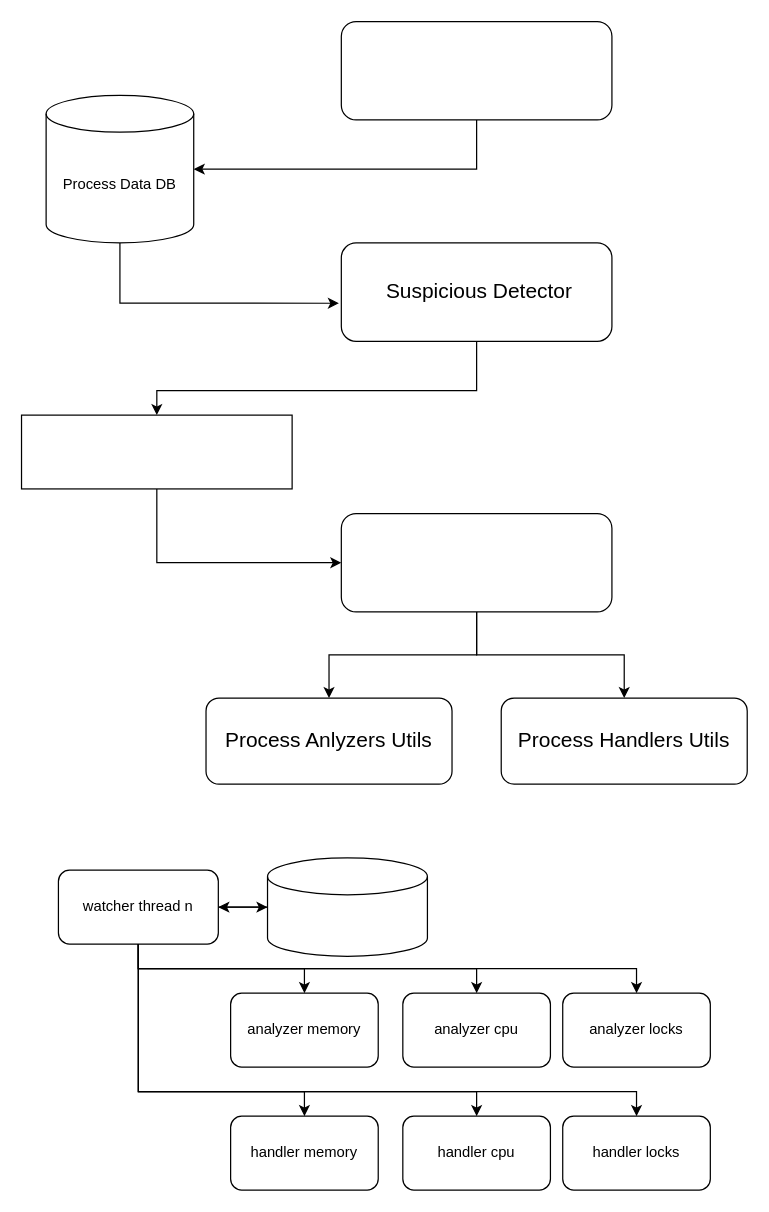
The diagram is 769 pixels wide and 1212 high, and some of its shapes have lost their labels. The shapes that lost their labels are listed below. From the top down, each one's centre as x and y in pixels, then its label:
the point at 476,70: Scanner
the point at 156,451: Suspicious Queue (FIFO)
the point at 476,562: Watcher Pool (N threads)
the point at 346,906: process changes
